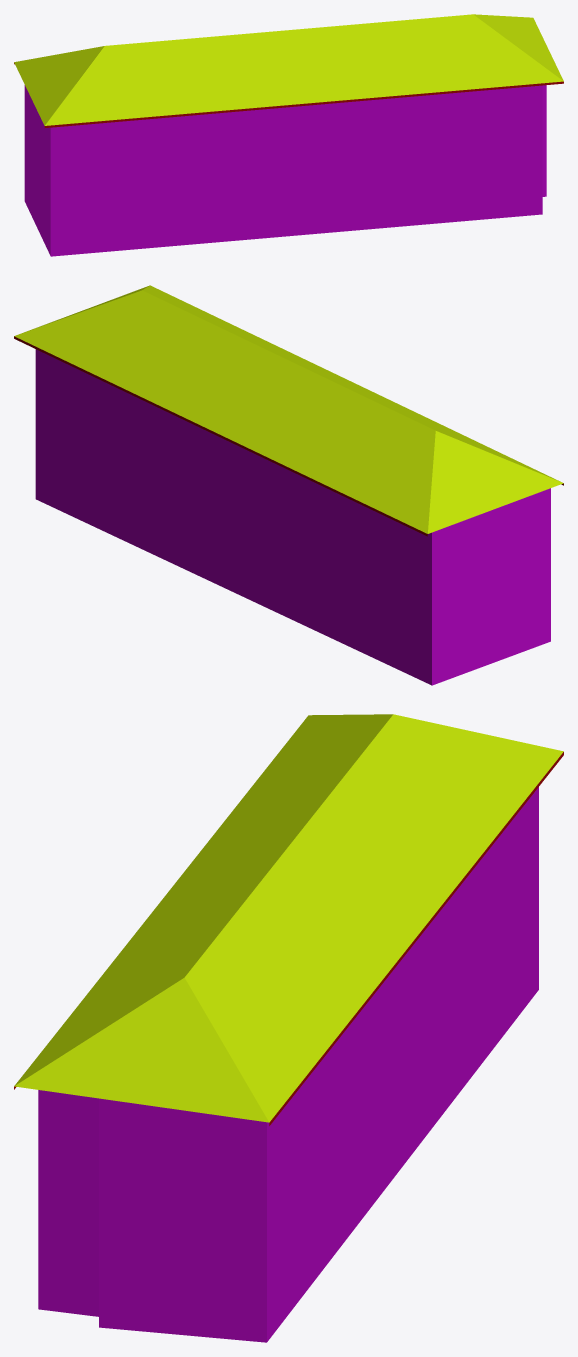
File: bgj_152.glb
The picture shows the model from 3 angles, top to bottom: view 1: azimuth 30°, elevation 25°; view 2: azimuth 150°, elevation 25°; view 3: azimuth 270°, elevation 25°; orthographic projection. The views are drawn at different scales.
Parts seen in each view (by area): view 1: bgj_152; view 2: bgj_152; view 3: bgj_152.
Part boxes in pixels (x1,y1,x2,y2): bgj_152: [14, 14, 563, 256]; bgj_152: [14, 285, 563, 685]; bgj_152: [14, 714, 563, 1342].
Size of the model in its own units: 28 by 9.88 by 15.97.
